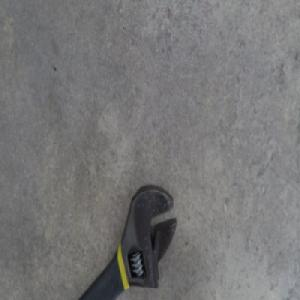AdjustableWrench: (74, 181, 175, 298)
